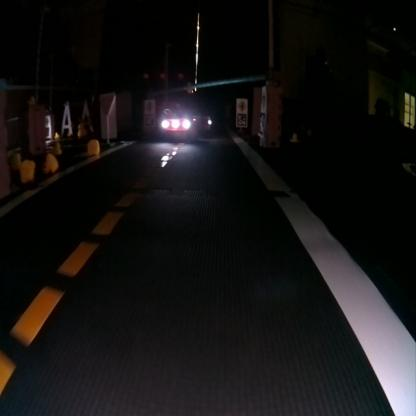Duckie: (20, 160, 35, 182), (44, 154, 58, 172), (88, 139, 99, 153), (76, 123, 86, 137), (52, 142, 61, 154), (290, 133, 298, 141)
Duckiebot: (160, 107, 210, 137)
Intersection sign: (237, 98, 247, 112), (260, 88, 266, 110)
QR code: (259, 111, 266, 135), (144, 112, 154, 126), (237, 112, 247, 124)
